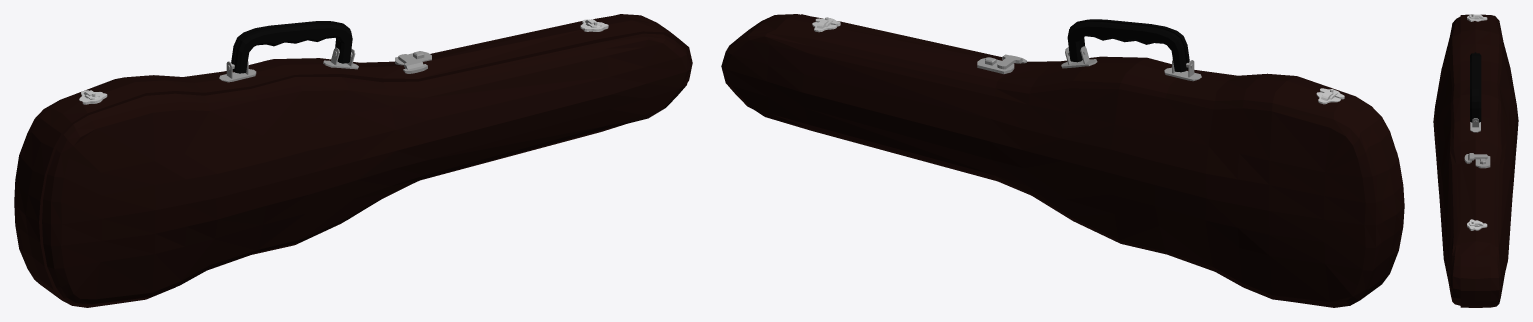
The model's file is violin_case.obj.
The picture shows the model from 3 angles, left to right: view 1: azimuth 30°, elevation 25°; view 2: azimuth 150°, elevation 25°; view 3: azimuth 270°, elevation 25°; orthographic projection. The views are drawn at different scales.
Visible parts, largest first — view 1: case, handle, holder, latch, lock; view 2: case, handle, holder, latch, lock; view 3: case, handle, lock, latch, holder.
Boxes of the visible parts, <box> form: case: <box>14,14,692,307</box>; handle: <box>231,21,352,73</box>; holder: <box>219,47,358,82</box>; latch: <box>79,19,608,104</box>; lock: <box>395,51,431,73</box>; case: <box>721,14,1404,307</box>; handle: <box>1067,19,1189,72</box>; holder: <box>1061,46,1201,81</box>; latch: <box>812,17,1344,104</box>; lock: <box>977,54,1026,74</box>; case: <box>1433,14,1518,307</box>; handle: <box>1470,52,1481,122</box>; lock: <box>1464,153,1490,168</box>; latch: <box>1467,14,1487,230</box>; holder: <box>1470,118,1480,132</box>.
Bounding box in the file's own units: 3.37 × 1.16 × 0.5401.
